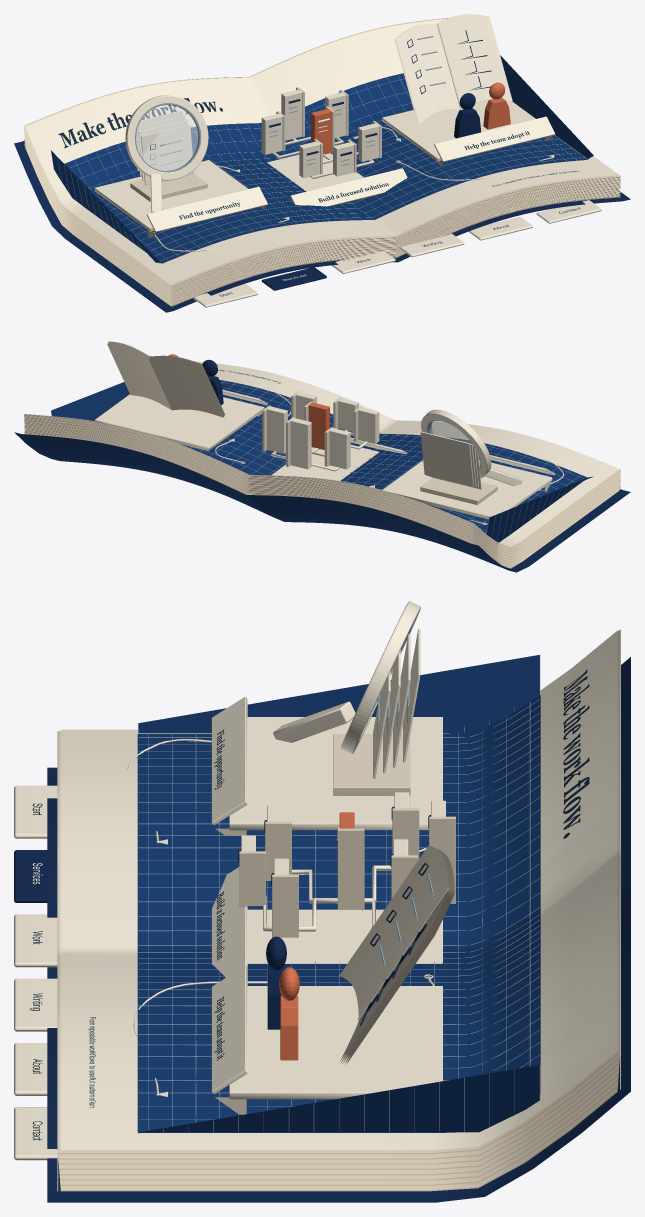
File: services.glb
3 views of the same model, one above another, from view 1: azimuth 30°, elevation 25°; view 2: azimuth 150°, elevation 25°; view 3: azimuth 270°, elevation 25° (orthographic). The views are drawn at different scales.
Parts seen in each view (by area): view 1: Curved manual leaf, Fold-out blueprint, Folded magnifier handle, Leaf fore-edge 2.83 1, Curved manual leaf.001, Blue teammate folded body, Fine horizontal drafting rule, Leaf fore-edge 2.83 0, Paper leaf 00, Thin transparent magnifier lens, Folded front nameplate, Folded front nameplate.002 (+19 smaller); view 2: Folded magnifier handle, Curved manual leaf.001, Leaf fore-edge 2.83 1, Fold-out blueprint, Blue teammate folded body, Curved manual leaf, Leaf fore-edge 2.83 0, Paper leaf 00, Fine horizontal drafting rule, Folded workflow node 1, Folded workflow node 2, Folded workflow node 0 (+6 smaller); view 3: Fold-out blueprint, Curved manual leaf, Folded magnifier handle, Curved manual leaf.001, Blue teammate folded body, Leaf fore-edge 2.83 1, Fine horizontal drafting rule, Paper leaf 00, Folded front nameplate, Folded front nameplate.002, Engagement 0, Folded front nameplate.001 (+8 smaller).
Boxes of the visible parts, bbox=[...] form: Curved manual leaf: bbox=[25, 14, 618, 284]; Fold-out blueprint: bbox=[51, 55, 593, 263]; Folded magnifier handle: bbox=[94, 99, 553, 280]; Leaf fore-edge 2.83 1: bbox=[24, 18, 620, 305]; Curved manual leaf.001: bbox=[23, 15, 620, 305]; Blue teammate folded body: bbox=[14, 108, 630, 312]; Fine horizontal drafting rule: bbox=[51, 76, 593, 263]; Leaf fore-edge 2.83 0: bbox=[24, 140, 620, 306]; Paper leaf 00: bbox=[24, 127, 620, 305]; Thin transparent magnifier lens: bbox=[136, 105, 198, 170]; Folded front nameplate: bbox=[146, 186, 267, 232]; Folded front nameplate.002: bbox=[434, 116, 555, 162]; Folded magnifier handle: bbox=[94, 390, 563, 524]; Curved manual leaf.001: bbox=[24, 342, 620, 567]; Leaf fore-edge 2.83 1: bbox=[24, 356, 620, 543]; Fold-out blueprint: bbox=[51, 380, 592, 543]; Blue teammate folded body: bbox=[14, 376, 630, 572]; Curved manual leaf: bbox=[26, 341, 619, 547]; Leaf fore-edge 2.83 0: bbox=[24, 415, 620, 544]; Paper leaf 00: bbox=[24, 415, 620, 568]; Fine horizontal drafting rule: bbox=[51, 381, 591, 541]; Folded workflow node 1: bbox=[290, 418, 311, 469]; Folded workflow node 2: bbox=[267, 406, 287, 453]; Folded workflow node 0: bbox=[329, 428, 350, 469]; Fold-out blueprint: bbox=[137, 655, 540, 1133]; Curved manual leaf: bbox=[60, 601, 617, 1149]; Folded magnifier handle: bbox=[32, 628, 443, 1099]; Curved manual leaf.001: bbox=[58, 630, 620, 1189]; Blue teammate folded body: bbox=[47, 657, 630, 1202]; Leaf fore-edge 2.83 1: bbox=[57, 629, 620, 1190]; Fine horizontal drafting rule: bbox=[138, 655, 540, 1133]; Paper leaf 00: bbox=[58, 1051, 620, 1191]; Folded front nameplate: bbox=[211, 696, 247, 825]; Folded front nameplate.002: bbox=[211, 965, 247, 1094]; Engagement 0: bbox=[30, 669, 589, 1140]; Folded front nameplate.001: bbox=[211, 867, 247, 977].
Size of the model in its own units: 10.35 by 2.82 by 6.21.
